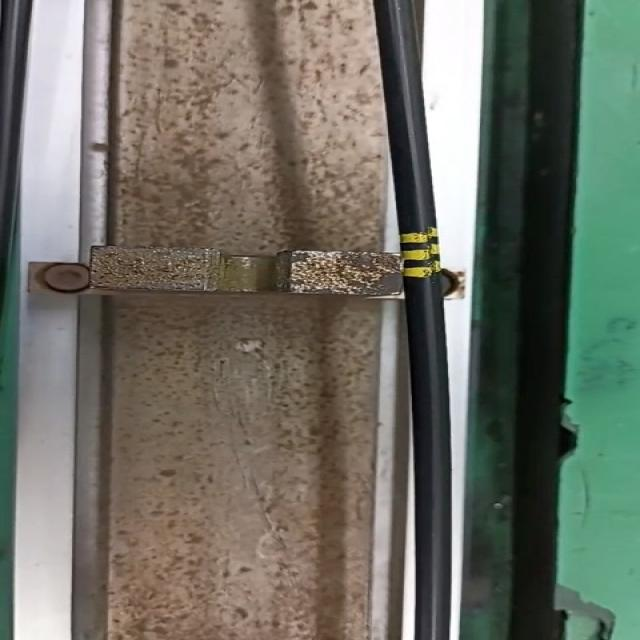yellow: (400, 231, 443, 275)
